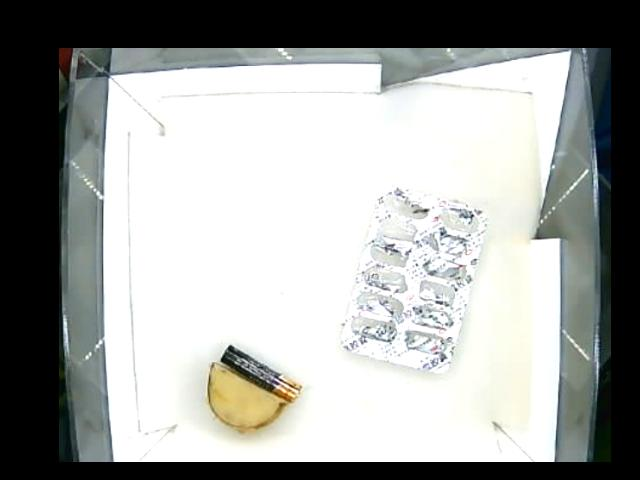Battery: (222, 347, 307, 401)
Medicine: (340, 186, 488, 374)
Potato: (208, 365, 284, 430)
